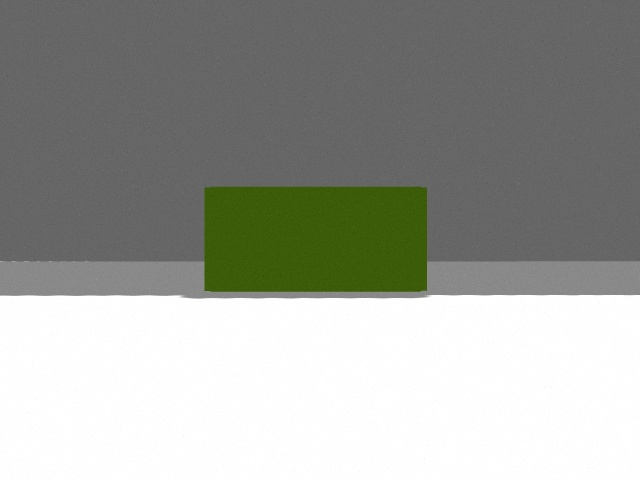green_drop_zone: (204, 187, 427, 292)
